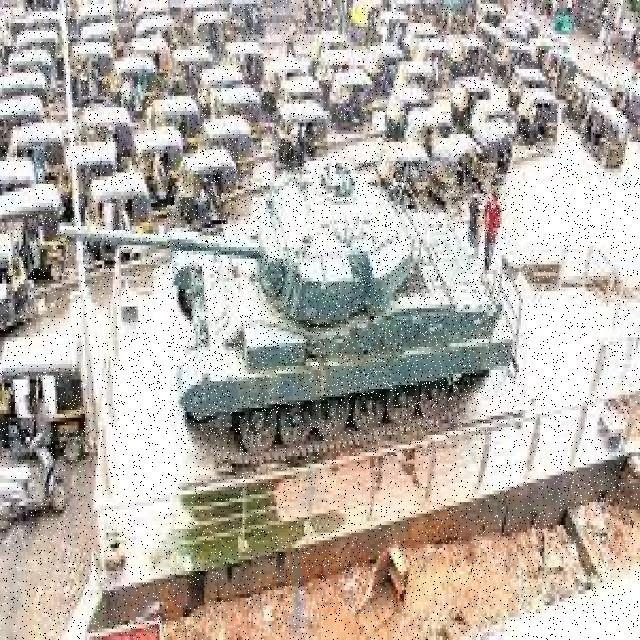MIL_MBT: (167, 163, 513, 437)
